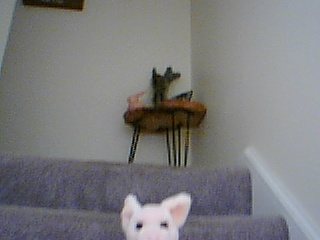piggy: (117, 190, 194, 240)
